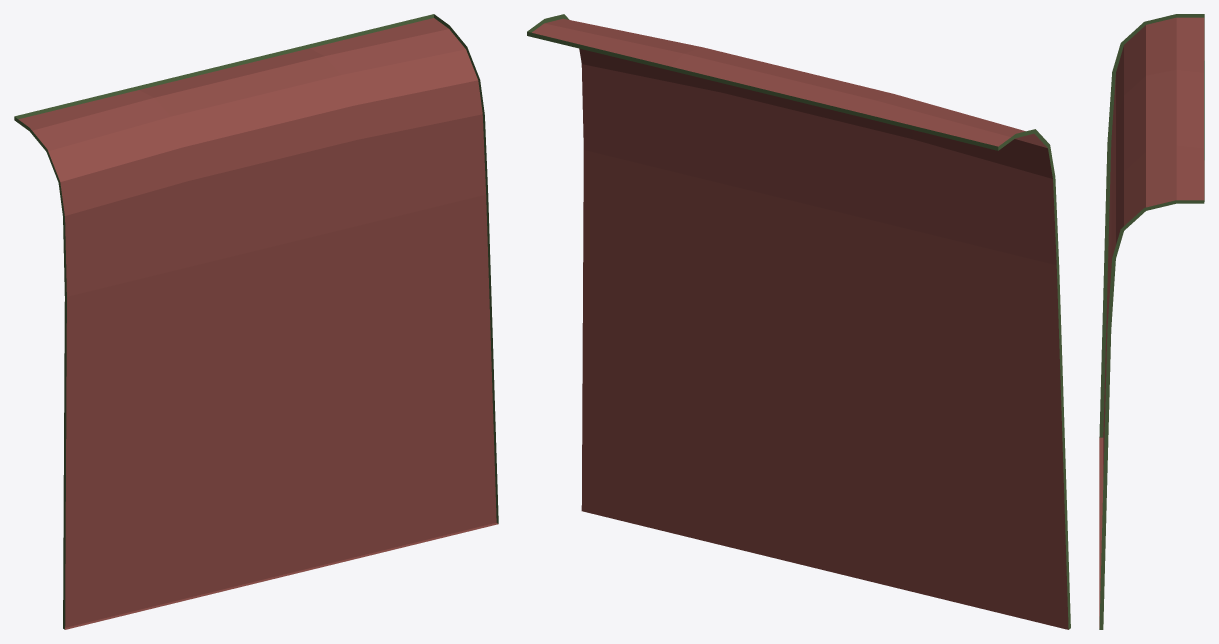
The model's file is fakecascada.fbx.
The picture shows the model from 3 angles, left to right: view 1: azimuth 30°, elevation 25°; view 2: azimuth 150°, elevation 25°; view 3: azimuth 270°, elevation 25°; orthographic projection. The views are drawn at different scales.
Visible parts, largest first — view 1: Cylinder001; view 2: Cylinder001; view 3: Cylinder001.
Part boxes in pixels (x1,y1,x2,y2): Cylinder001: (14, 14, 498, 629); Cylinder001: (527, 14, 1070, 629); Cylinder001: (1099, 14, 1204, 629).
Bounding box in the file's own units: 35.19 × 36.43 × 8.13.
